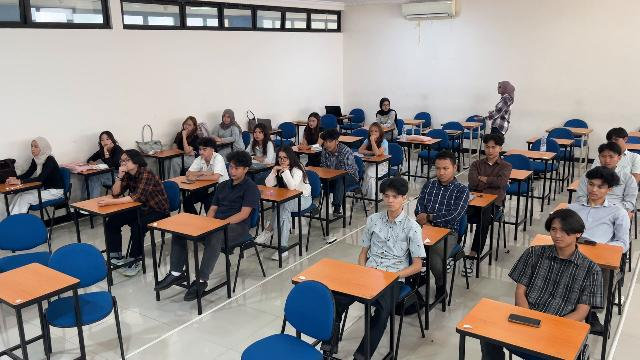fokus: (550, 223, 573, 247), (587, 180, 605, 199), (383, 192, 400, 210), (435, 163, 452, 180), (228, 162, 243, 179), (599, 153, 617, 167), (609, 134, 625, 149), (484, 143, 499, 158), (120, 153, 134, 169), (100, 134, 113, 149), (278, 151, 289, 166), (31, 140, 41, 155), (323, 138, 334, 151), (253, 128, 264, 140), (199, 145, 209, 157), (307, 116, 317, 128), (370, 126, 379, 139), (184, 119, 193, 131), (223, 113, 230, 123)
